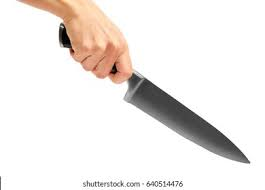weapon-unusual: (53, 20, 252, 168)
